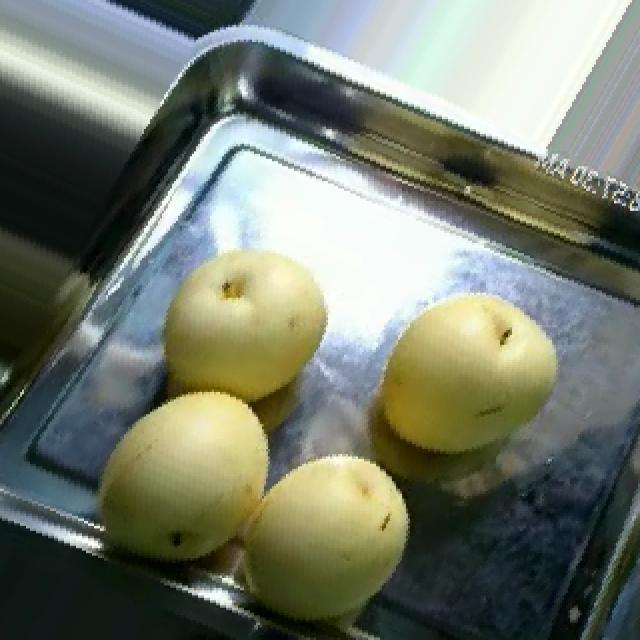Fruit: (62, 360, 306, 608), (342, 263, 586, 489), (214, 426, 440, 640), (134, 223, 352, 432)
